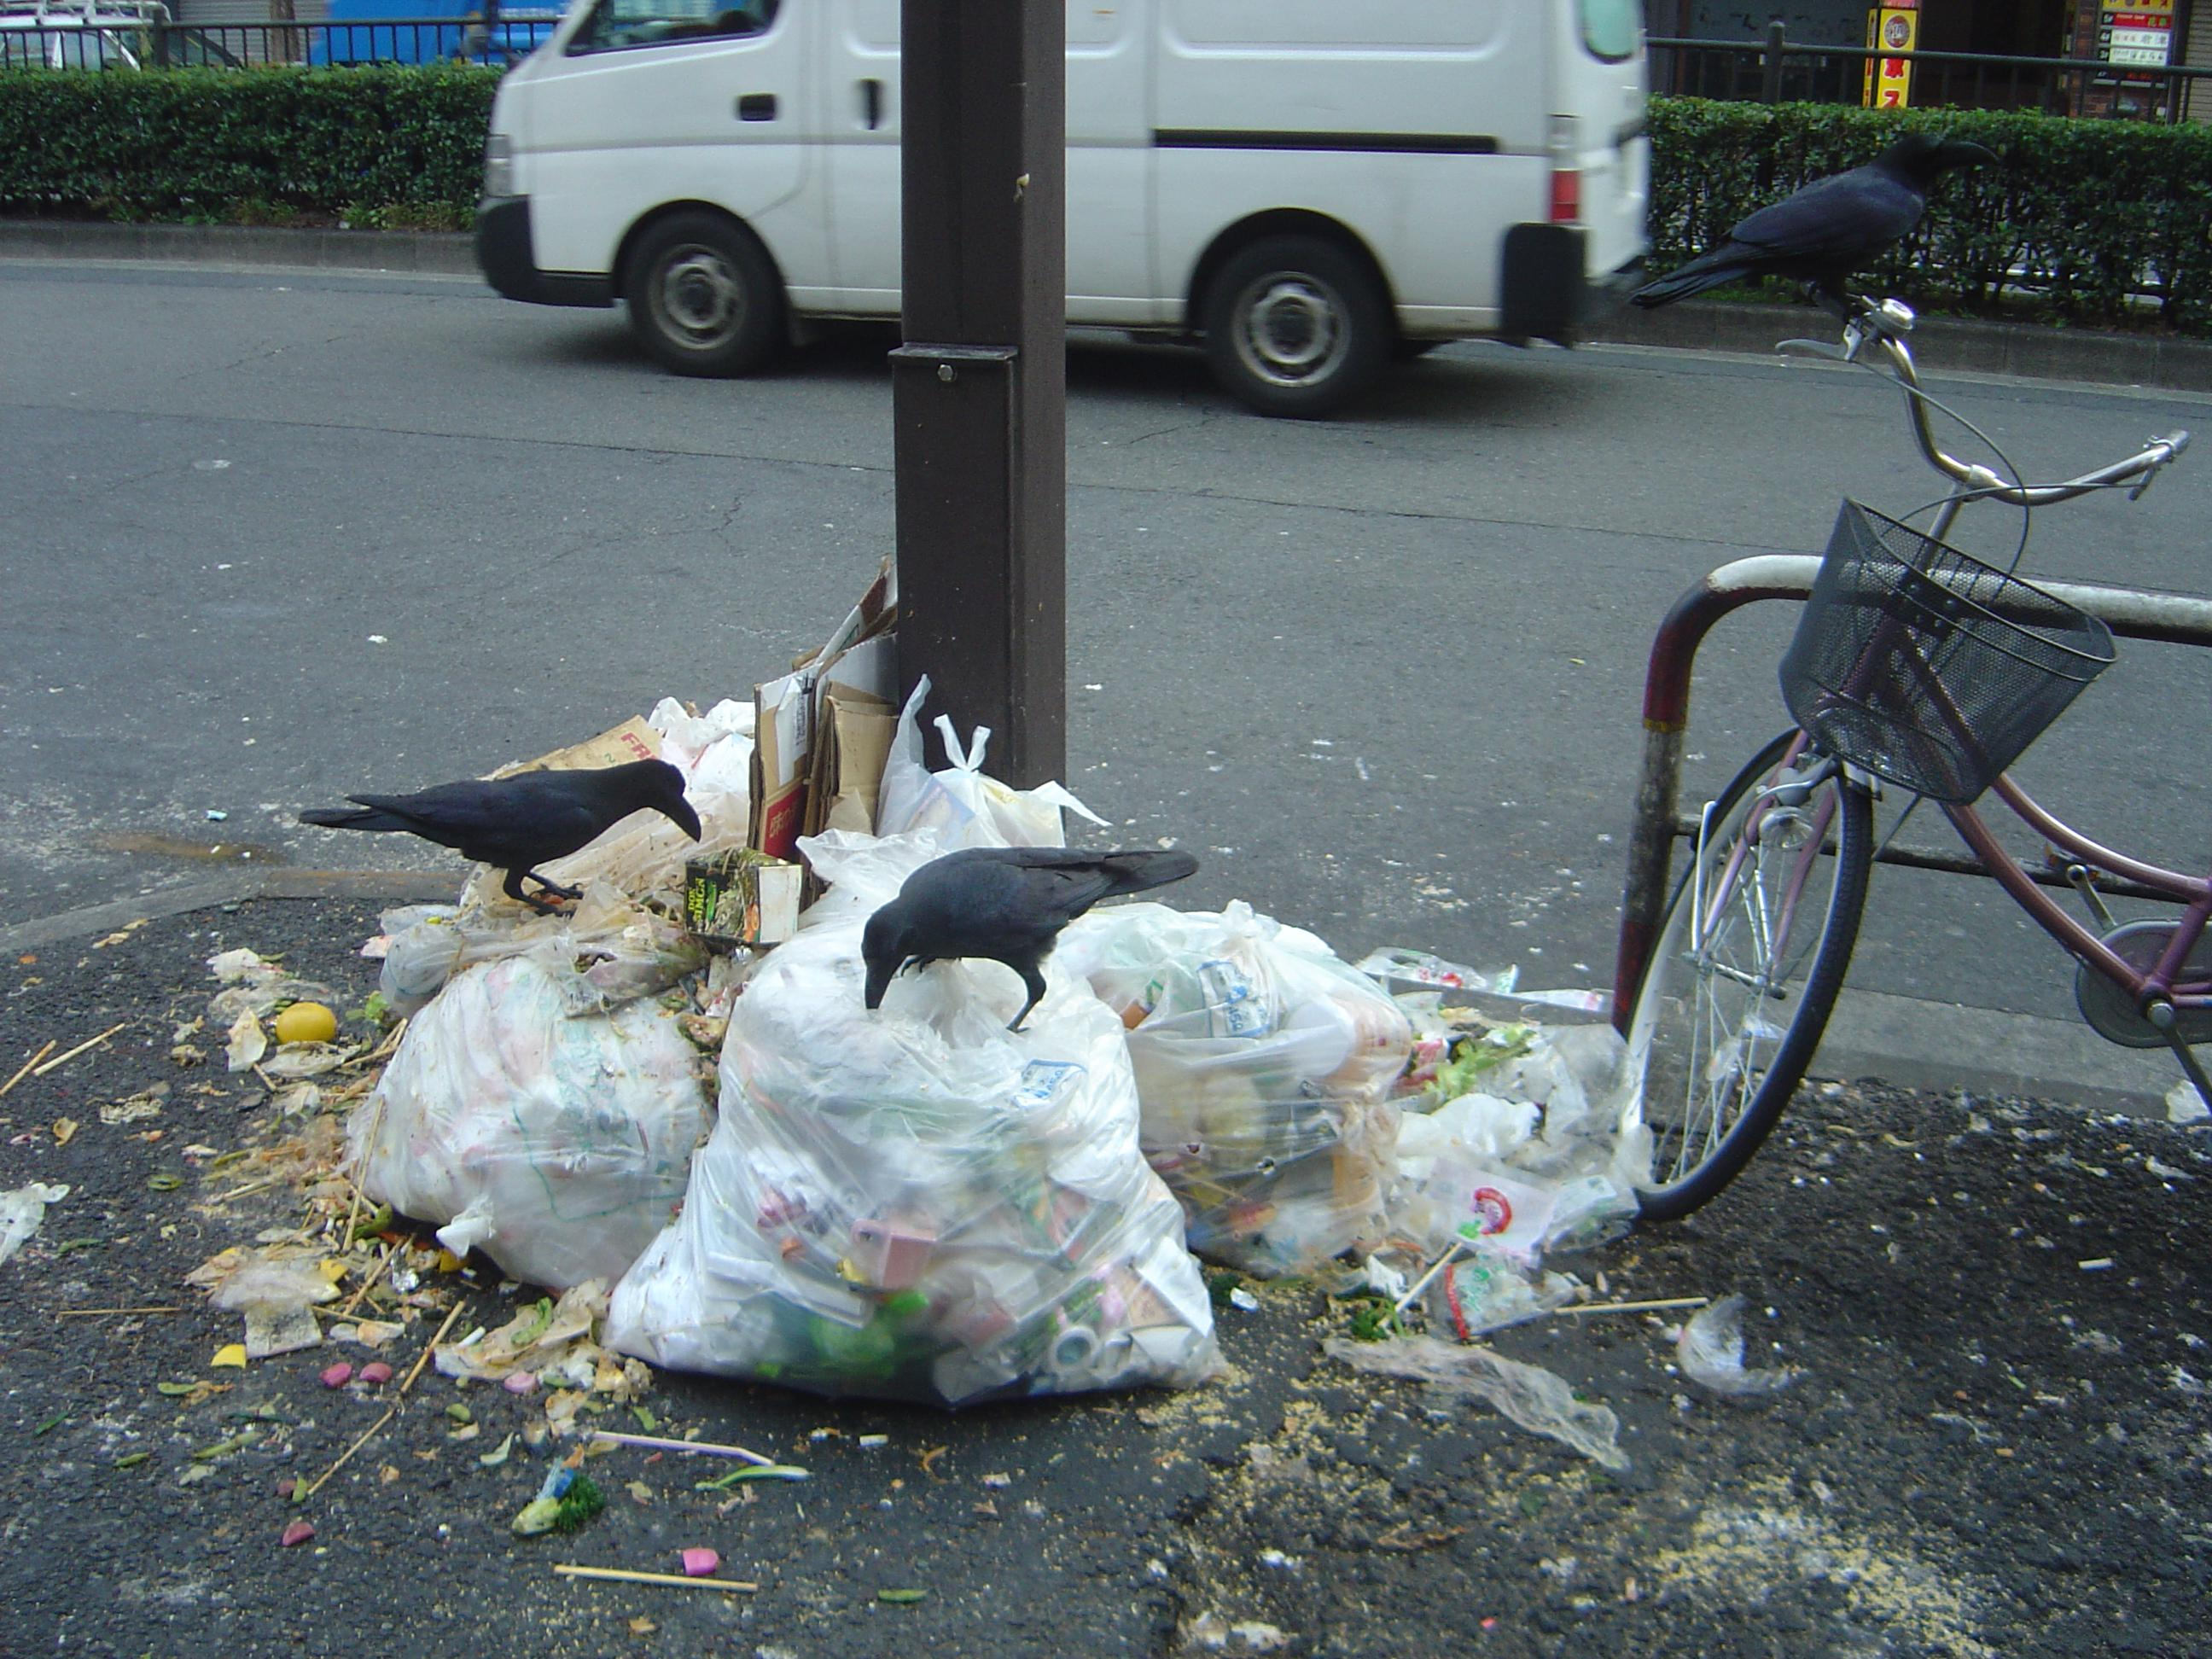Garbage: (620, 1047, 1269, 1392), (309, 927, 698, 1262), (275, 1235, 633, 1571), (1094, 904, 1423, 1268), (1336, 1276, 1837, 1469), (1387, 999, 1602, 1279), (147, 910, 346, 1074)
